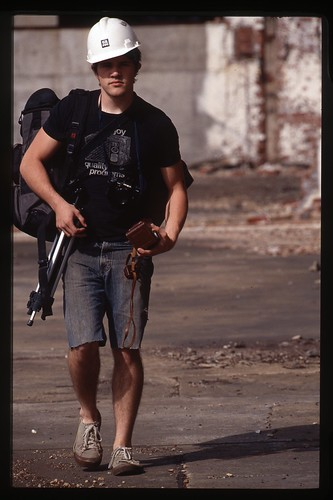person hardhat: (18, 16, 188, 474)
